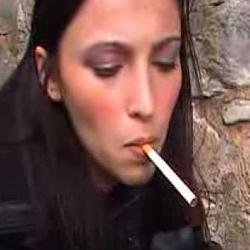smoking: (121, 133, 200, 211)
